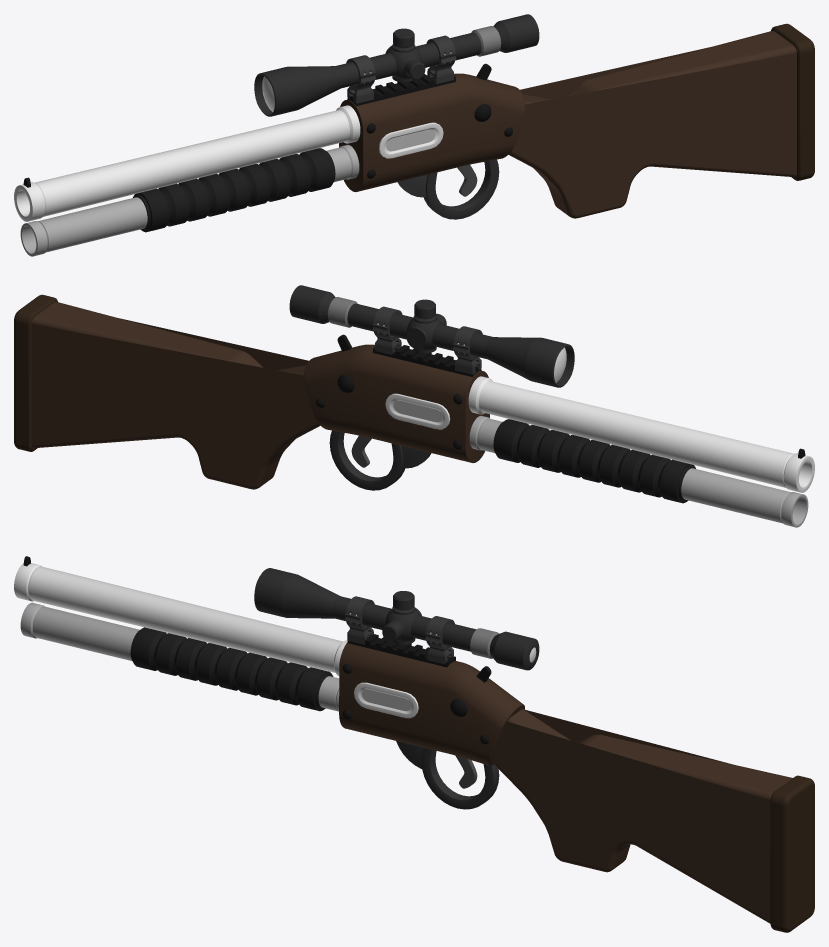
The model's file is SHOTGUN_UPGRADE.fbx.
3 renders of one model, top to bottom at view 1: azimuth 30°, elevation 25°; view 2: azimuth 150°, elevation 25°; view 3: azimuth 330°, elevation 25°, orthographic.
Parts seen in each view (by area): view 1: Receiver.006, SCOPE_BODY.001, Pump.006, MagazineTube.006; view 2: Receiver.006, SCOPE_BODY.001, Pump.006, MagazineTube.006; view 3: Receiver.006, SCOPE_BODY.001, Pump.006, MagazineTube.006.
Part boxes in pixels (x1,y1,x2,y2): Receiver.006: [14, 23, 814, 221]; SCOPE_BODY.001: [254, 14, 539, 116]; Pump.006: [133, 148, 335, 232]; MagazineTube.006: [20, 144, 359, 256]; Receiver.006: [14, 294, 814, 492]; SCOPE_BODY.001: [289, 285, 574, 387]; Pump.006: [493, 419, 695, 503]; MagazineTube.006: [469, 415, 808, 527]; Receiver.006: [14, 556, 814, 932]; SCOPE_BODY.001: [254, 568, 539, 670]; Pump.006: [130, 627, 333, 711]; MagazineTube.006: [20, 602, 339, 711].
Size of the model in its own units: 458 by 131 by 30.85.
